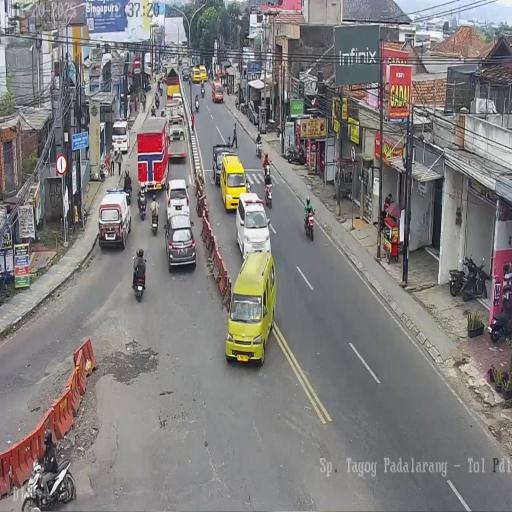3: (136, 116, 169, 194), (166, 56, 178, 80), (144, 52, 152, 74)
car: (225, 251, 275, 363), (236, 194, 271, 262), (98, 187, 132, 248), (164, 216, 196, 270), (220, 153, 248, 213), (166, 178, 190, 222), (111, 119, 130, 155), (246, 100, 260, 126), (212, 80, 224, 104), (172, 92, 182, 115), (192, 66, 201, 83), (181, 66, 190, 82), (160, 56, 168, 70), (159, 70, 166, 81)
truck: (22, 450, 76, 511), (461, 254, 489, 302), (488, 290, 512, 342), (132, 258, 146, 301), (284, 143, 306, 165), (304, 206, 315, 241), (263, 175, 273, 209), (137, 187, 147, 219), (150, 203, 159, 235), (124, 183, 132, 206), (240, 98, 249, 116), (256, 135, 262, 158), (276, 122, 282, 139), (194, 96, 200, 112), (150, 104, 156, 116), (200, 84, 205, 98), (207, 68, 212, 81), (155, 93, 159, 109), (234, 96, 238, 110), (159, 83, 163, 96)
